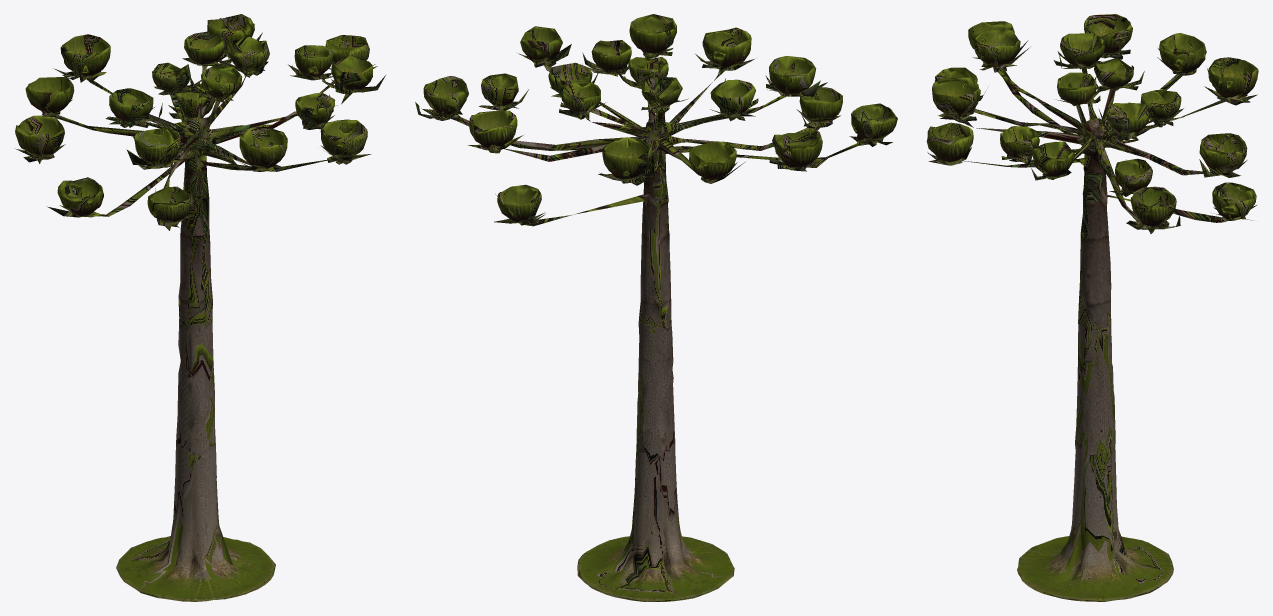
File: araucaria_adulta.glb
3 views of the same model, side by side, from view 1: azimuth 30°, elevation 25°; view 2: azimuth 150°, elevation 25°; view 3: azimuth 270°, elevation 25° (orthographic).
Parts seen in each view (by area): view 1: tripo_node_5b32d6b7-d6d8-4fb8-896c-30ce99613bcb; view 2: tripo_node_5b32d6b7-d6d8-4fb8-896c-30ce99613bcb; view 3: tripo_node_5b32d6b7-d6d8-4fb8-896c-30ce99613bcb.
Boxes of the visible parts, <box> form: tripo_node_5b32d6b7-d6d8-4fb8-896c-30ce99613bcb: <box>15,14,385,601</box>; tripo_node_5b32d6b7-d6d8-4fb8-896c-30ce99613bcb: <box>415,14,897,601</box>; tripo_node_5b32d6b7-d6d8-4fb8-896c-30ce99613bcb: <box>926,14,1258,601</box>.
Bounding box in the file's own units: 0.8312 × 0.9997 × 0.6064.
Materials: 1 (1 with a texture image).
